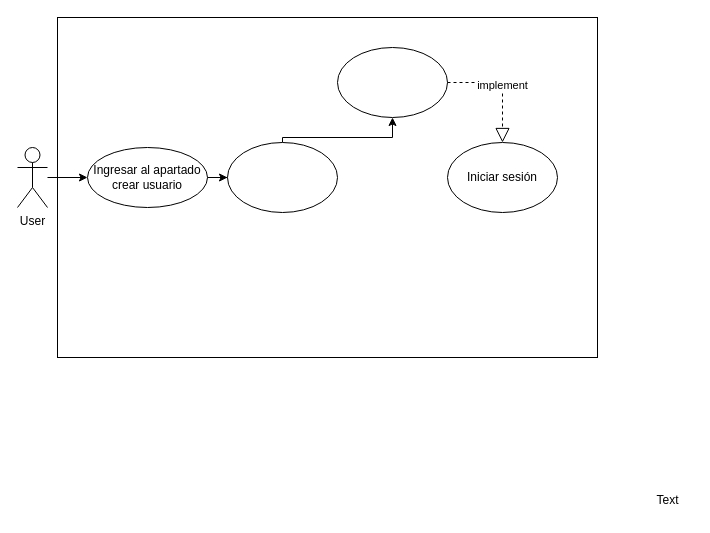
The diagram is 710 pixels wide and 533 high, and some of its shapes have lost their labels. Each missing label, with the centre of its shape:
Ingresar contraseña: point (392, 82)
Ingresar usuario: point (282, 177)
